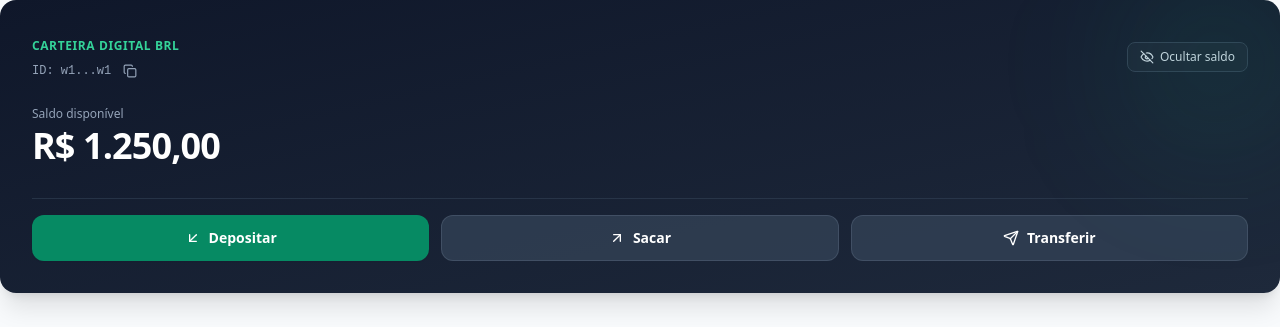
BalanceCard › toggles balance visibility on button click
Expected: the text "R$ 1.250,00" is shown, [32,121,220,170]
Click the button "Ocultar saldo": (1188, 57) [1127,42,1248,72]
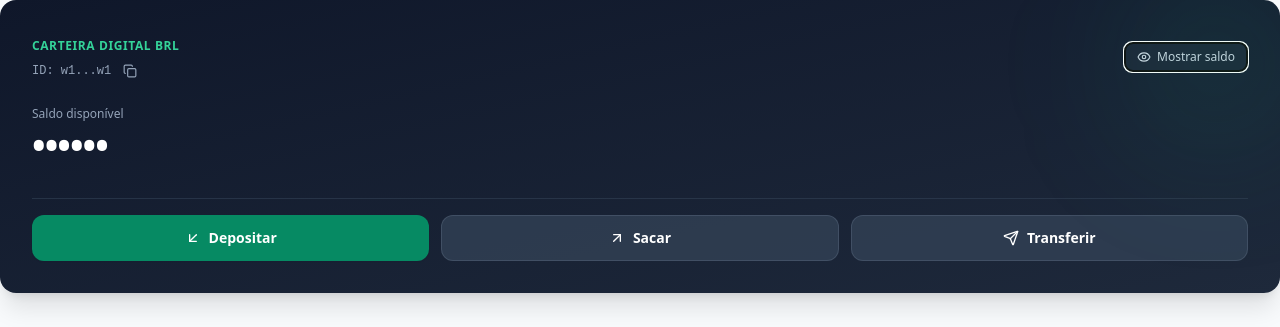
Result: the text "1.250,00" is gone
Result: the text "••••••" is shown at [32,121,108,170]
